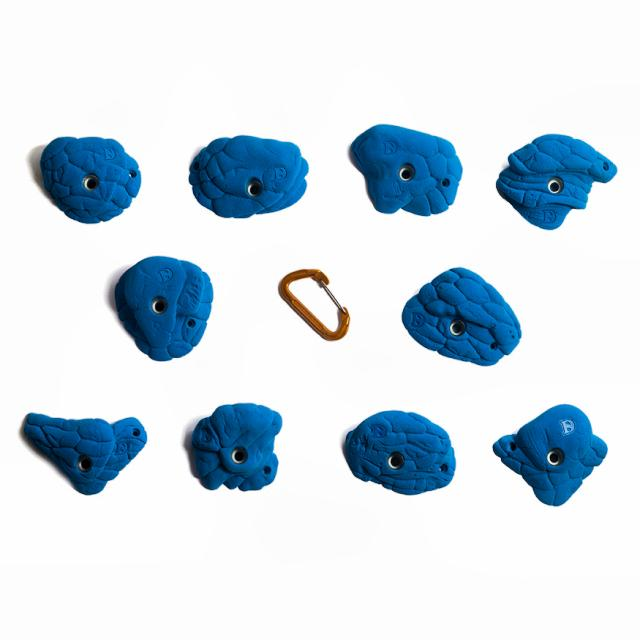Hold: (489, 124, 617, 233), (395, 261, 520, 372), (493, 402, 615, 510), (341, 121, 464, 226), (13, 406, 155, 496), (113, 252, 219, 364), (180, 132, 313, 220), (340, 410, 458, 495), (36, 127, 138, 225), (187, 399, 282, 494)
